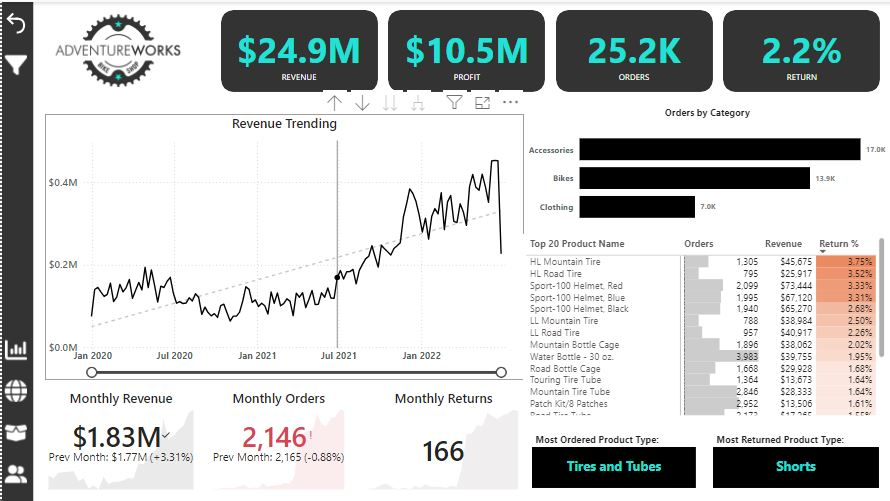

Layout of this report page (visuals, bound fields, positions):
{"tool":"powerbi","page":{"name":"Exec Dashboard","canvas":[1280,720],"ordinal":0},"visuals":[{"type":"card","fields":{"Values":["Measure Table.Return Rate"]},"box":[1023.2,0,256.3,149.8],"z":0,"group":"g2"},{"type":"image","title":"AW Logo","box":[44.6,10.1,246.2,119.5],"z":0},{"type":"group","id":"g1","title":"KPI Backgrounds","box":[315.8,11.8,949,118.1],"z":0,"group":"g3"},{"type":"shape","box":[556.8,11.8,226.1,118.1],"z":0,"group":"g1"},{"type":"shape","title":"Left Nav Background","box":[0,0,45,720],"z":1000},{"type":"group","id":"g2","title":"KPIs Values","box":[299.5,0,980,149.8],"z":1000,"group":"g3"},{"type":"card","fields":{"Values":["Measure Table.Total Revenue"]},"box":[299.5,0,256.3,149.8],"z":1000,"group":"g2"},{"type":"shape","box":[315.8,11.8,226.1,118.1],"z":1000,"group":"g1"},{"type":"group","id":"g3","title":"KPIs","box":[299.5,0,980.6,149.8],"z":2000},{"type":"card","fields":{"Values":["Measure Table.Total Orders"]},"box":[782,0,256.3,149.8],"z":2000,"group":"g2"},{"type":"shape","box":[1038.7,11.8,226.1,118.1],"z":2000,"group":"g1"},{"type":"card","fields":{"Values":["Measure Table.Total Profit"]},"box":[540.7,0,256.3,149.8],"z":3000,"group":"g2"},{"type":"shape","box":[797.7,11.8,226.1,118.1],"z":3000,"group":"g1"},{"type":"lineChart","title":"Revenue Trending","fields":{"Y":["Measure Table.Total Revenue"],"Category":["Calendar Lookup.Year","Calendar Lookup.Start of Quarter","Calendar Lookup.Start of Week"]},"box":[61.9,161.3,689.8,383],"z":3000},{"type":"kpi","title":"Monthly Revenue","fields":{"Indicator":["Measure Table.Total Revenue"],"TrendLine":["Calendar Lookup.Start of Month"],"Goal":["Measure Table.Previous Month Revenue"]},"box":[61.9,557.3,218.9,149.8],"z":4000},{"type":"kpi","title":"Monthly Orders","fields":{"TrendLine":["Calendar Lookup.Start of Month"],"Indicator":["Measure Table.Total Orders"],"Goal":["Measure Table.Previous Month Orders"]},"box":[298.1,557.3,200.2,149.8],"z":5000},{"type":"kpi","title":"Monthly Returns","fields":{"TrendLine":["Calendar Lookup.Start of Month"],"Indicator":["Measure Table.Total Returns"]},"box":[522.7,557.3,226.1,149.8],"z":6000},{"type":"barChart","title":"Orders by Category","fields":{"Category":["Product Categories Lookup.CategoryName"],"Y":["Measure Table.Total Orders"]},"box":[751.7,149.8,528.5,184.3],"z":7000},{"type":"pivotTable","fields":{"Rows":["Product Lookup.ProductName"],"Values":["Measure Table.Total Orders","Measure Table.Total Revenue","Measure Table.Return Rate"]},"box":[750.8,334.3,525.6,266.4],"z":8000},{"type":"card","fields":{"Values":["Min(Product Subcategories Lookup.SubcategoryName)"]},"box":[763.2,640.8,236.2,59],"z":9000},{"type":"actionButton","box":[0,10.1,44.6,40.3],"z":10000},{"type":"actionButton","box":[0,481,44.6,40.3],"z":11000},{"type":"actionButton","box":[0,600,44.6,40.3],"z":12000},{"type":"actionButton","box":[0,659.5,44.6,40.3],"z":13000},{"type":"actionButton","box":[0,540.5,44.6,40.3],"z":14000},{"type":"actionButton","box":[0,70.6,44.6,40.3],"z":15000},{"type":"textbox","box":[763.2,616.3,253.4,31.7],"z":17000},{"type":"card","fields":{"Values":["Min(Product Subcategories Lookup.SubcategoryName)"]},"box":[1023.8,640.8,239,59],"z":18000},{"type":"textbox","box":[1023.8,616.3,253.4,31.7],"z":19000}]}

Visuals, with their boxes on the page's 1280x720 design canvas (x1, y1, x2, y2). These are canvas units, not pixel positions in the 890x501 screenshot, which may show the page scaled, cropped or inside an application window:
card - Measure Table.Return Rate: bbox(1023, 0, 1280, 150)
"AW Logo" image: bbox(45, 10, 291, 130)
"KPI Backgrounds" group: bbox(316, 12, 1265, 130)
shape: bbox(557, 12, 783, 130)
"Left Nav Background" shape: bbox(0, 0, 45, 720)
"KPIs Values" group: bbox(300, 0, 1280, 150)
card - Measure Table.Total Revenue: bbox(300, 0, 556, 150)
shape: bbox(316, 12, 542, 130)
"KPIs" group: bbox(300, 0, 1280, 150)
card - Measure Table.Total Orders: bbox(782, 0, 1038, 150)
shape: bbox(1039, 12, 1265, 130)
card - Measure Table.Total Profit: bbox(541, 0, 797, 150)
shape: bbox(798, 12, 1024, 130)
"Revenue Trending" lineChart: bbox(62, 161, 752, 544)
"Monthly Revenue" kpi: bbox(62, 557, 281, 707)
"Monthly Orders" kpi: bbox(298, 557, 498, 707)
"Monthly Returns" kpi: bbox(523, 557, 749, 707)
"Orders by Category" barChart: bbox(752, 150, 1280, 334)
pivotTable - Product Lookup.ProductName x Measure Table.Total Orders: bbox(751, 334, 1276, 601)
card - Min(Product Subcategories Lookup.SubcategoryName): bbox(763, 641, 999, 700)
actionButton: bbox(0, 10, 45, 50)
actionButton: bbox(0, 481, 45, 521)
actionButton: bbox(0, 600, 45, 640)
actionButton: bbox(0, 660, 45, 700)
actionButton: bbox(0, 540, 45, 581)
actionButton: bbox(0, 71, 45, 111)
textbox: bbox(763, 616, 1017, 648)
card - Min(Product Subcategories Lookup.SubcategoryName): bbox(1024, 641, 1263, 700)
textbox: bbox(1024, 616, 1277, 648)
